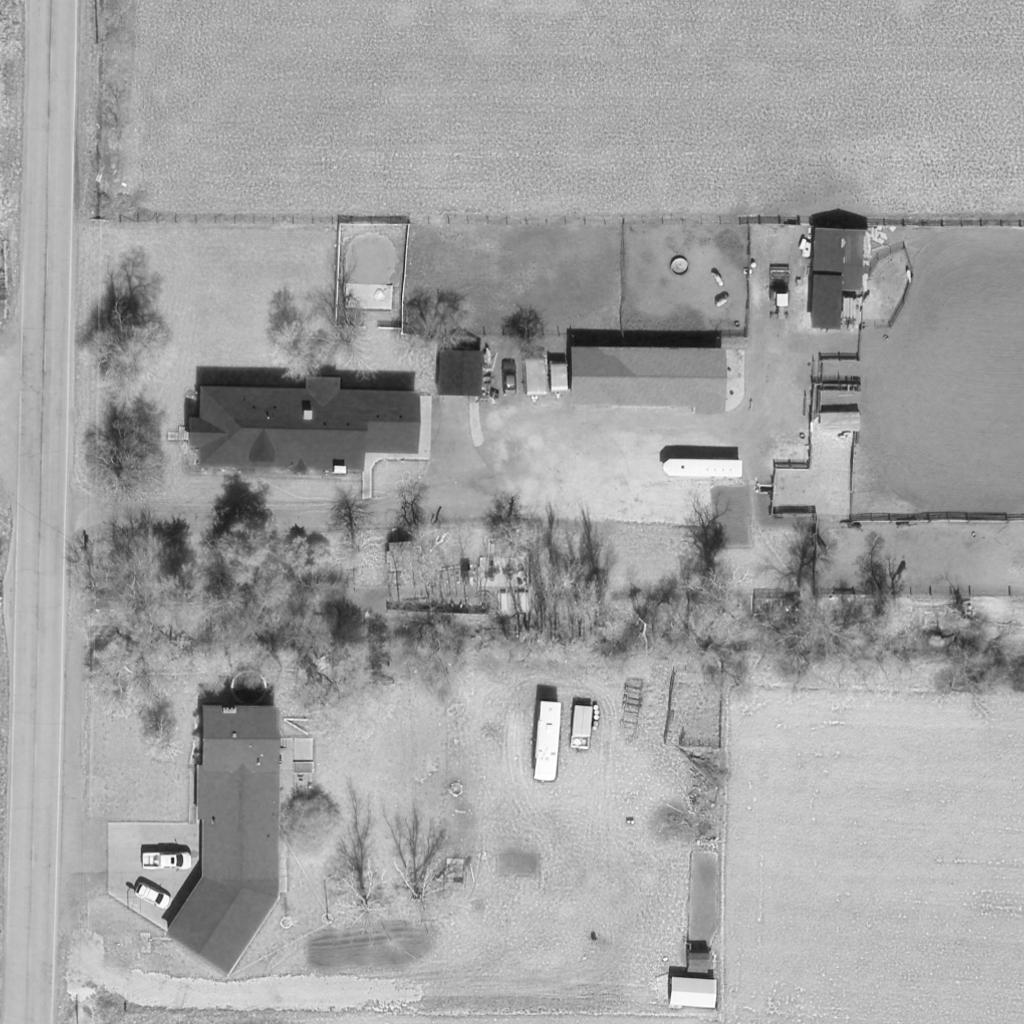vehicle: (529, 703, 563, 781), (658, 461, 744, 479), (521, 353, 547, 405), (131, 881, 173, 911), (767, 283, 799, 321), (552, 355, 572, 401), (498, 358, 518, 396), (140, 854, 190, 868)
